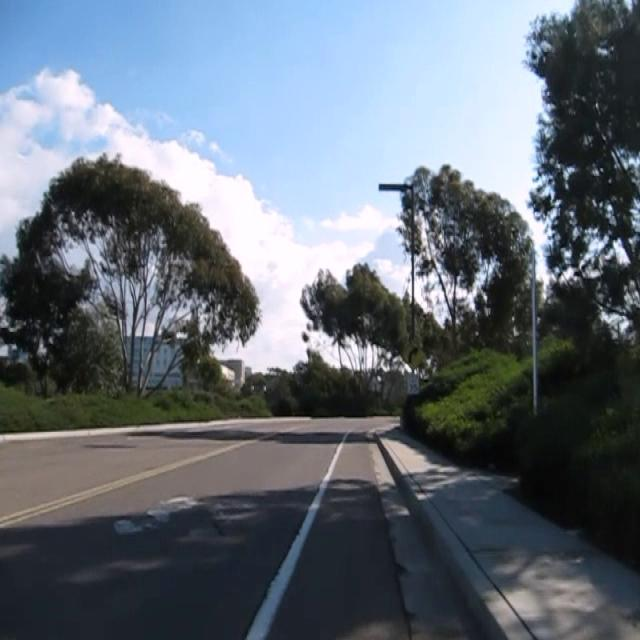speedLimit35: (405, 372, 420, 395)
